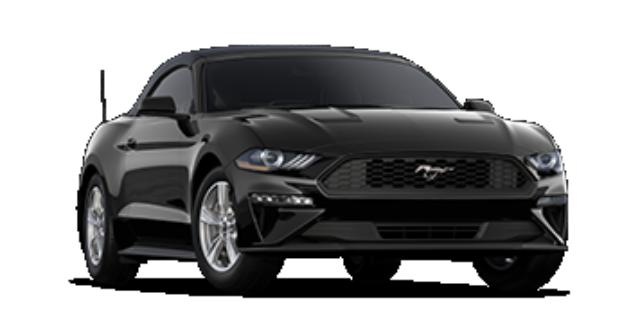ford-mustang: (76, 44, 568, 294)
